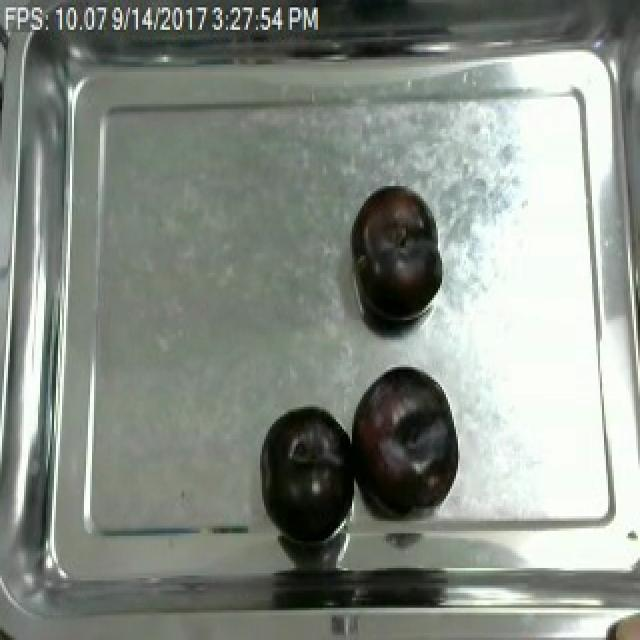Fruit: (346, 360, 462, 516), (256, 399, 358, 546), (348, 179, 444, 330), (596, 603, 640, 640)
